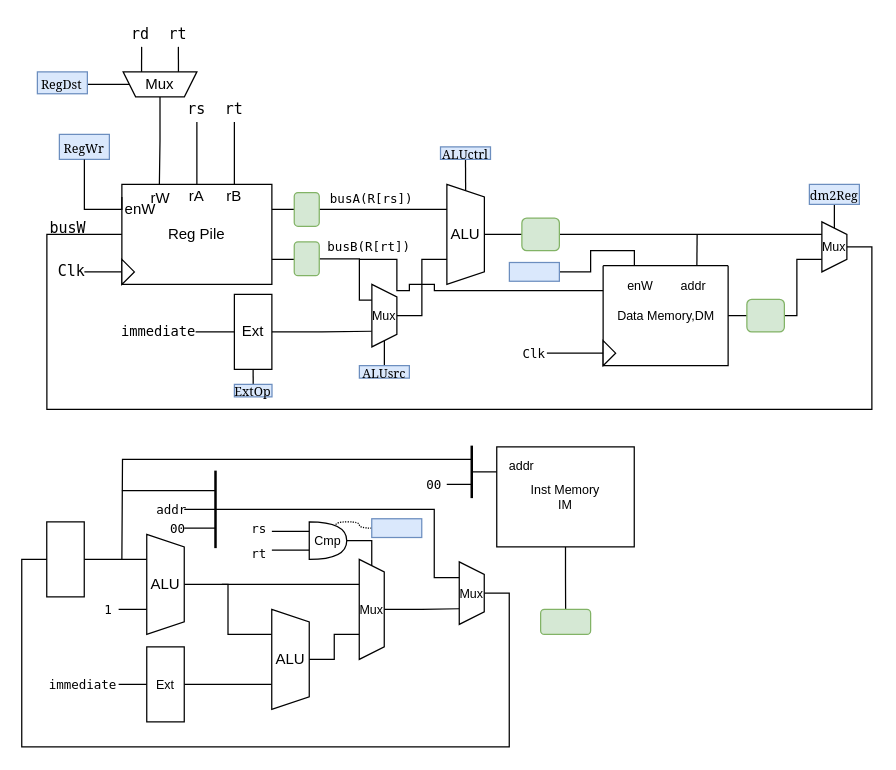
Some shapes in this 896 by 770 pixel diagram are drawn without their labels. The shapes that lost their labels are listed below. From the top down, each one's centre as x and y in pixels, then its label:
At (306,208): "AR".
At (540,234): "SumR".
At (306,258): "BR".
At (533,271): "dmWr".
At (765,315): "MemR".
At (396,528): "nPc_sel".
At (65,559): "PC".
At (565,621): "InstR".
